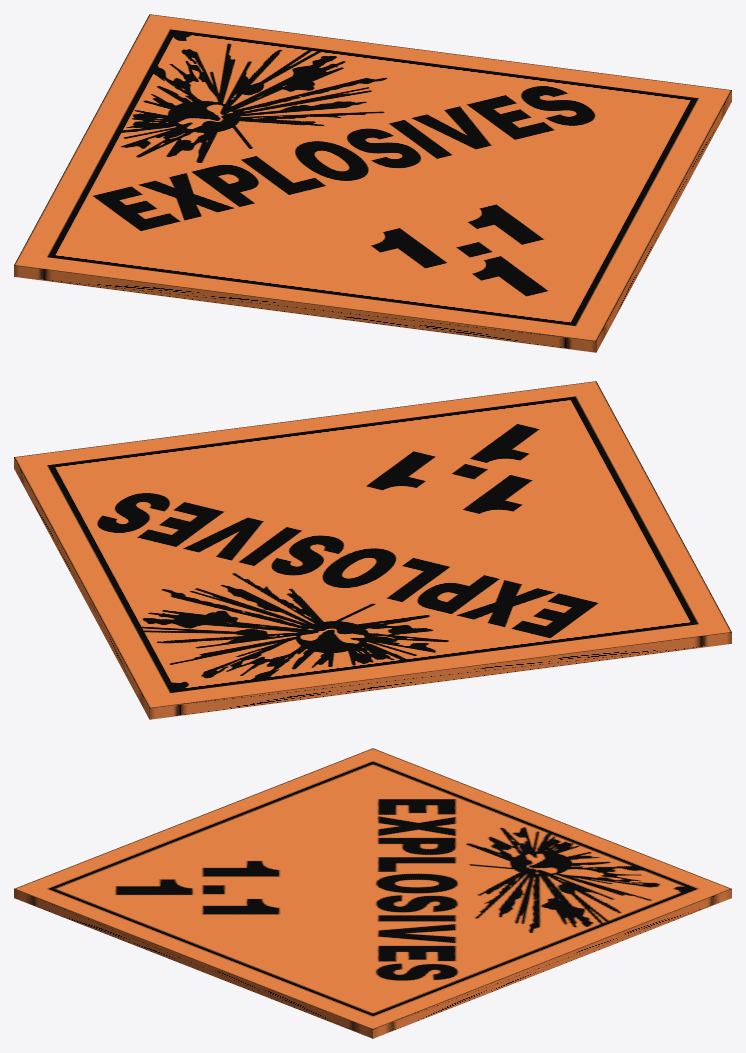
The model's file is hazmat_explosives.dae.
3 renders of one model, top to bottom at view 1: azimuth 30°, elevation 25°; view 2: azimuth 150°, elevation 25°; view 3: azimuth 270°, elevation 25°, orthographic. The views are drawn at different scales.
Visible parts, largest first — view 1: Sign_Material.007; view 2: Sign_Material.007; view 3: Sign_Material.007.
Boxes of the visible parts, x1,y1,x2,y2 form: Sign_Material.007: (14,14,731,352); Sign_Material.007: (14,381,731,719); Sign_Material.007: (14,748,731,1038).
Size of the model in its own units: 0.1377 by 0.1485 by 0.0021.
1 material, 1 textured.
